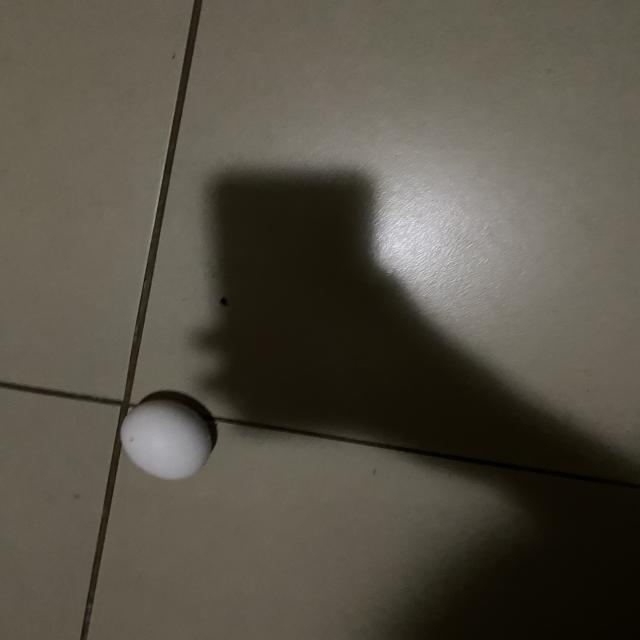egg: (109, 394, 223, 484)
